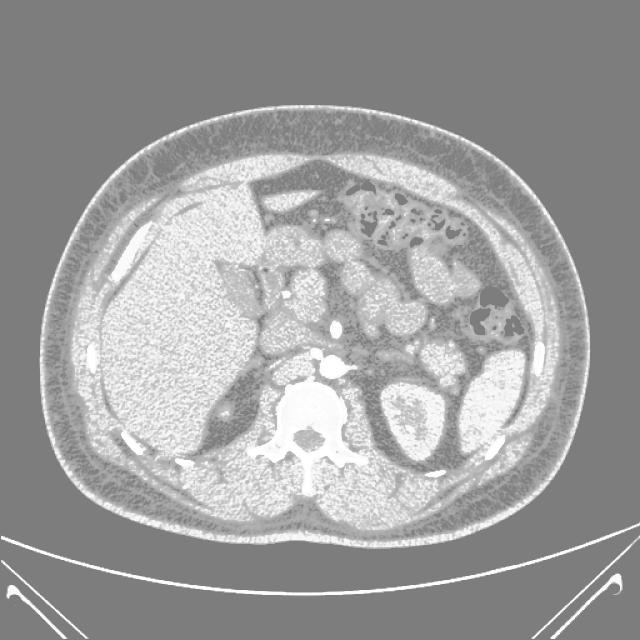NORMAL: (5, 112, 601, 640)
